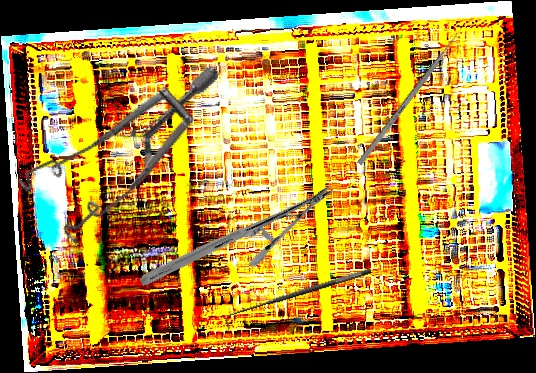Hook Surgical: (220, 265, 376, 331)
Needle Holder: (138, 127, 335, 344)
Pusher: (357, 24, 466, 166)
Speculum: (4, 15, 221, 269)
